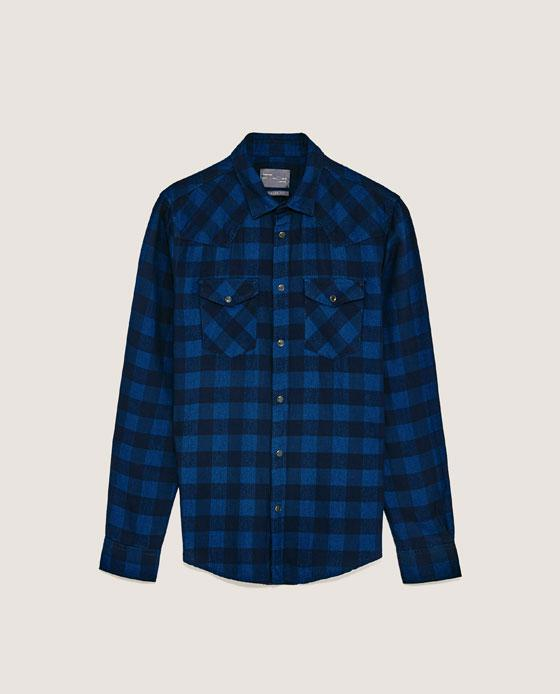teeshirt: (83, 131, 478, 617)
